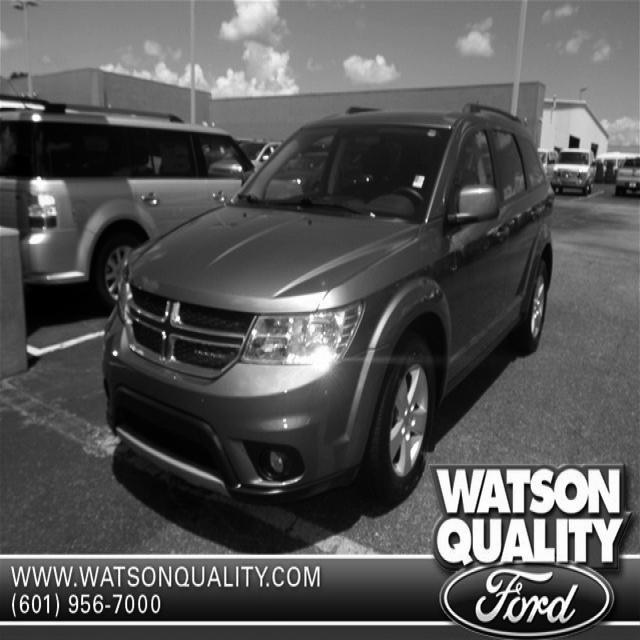car: (101, 102, 555, 506)
